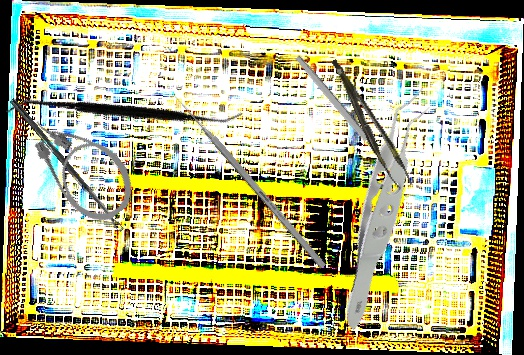Cannula: (18, 95, 146, 233)
Pusher: (170, 90, 327, 270)
Spatula Surgical: (5, 13, 244, 214)
Surgical Spoon: (8, 97, 125, 234), (293, 54, 400, 177)
Tissue Forceps: (262, 82, 516, 333), (331, 51, 413, 195)
